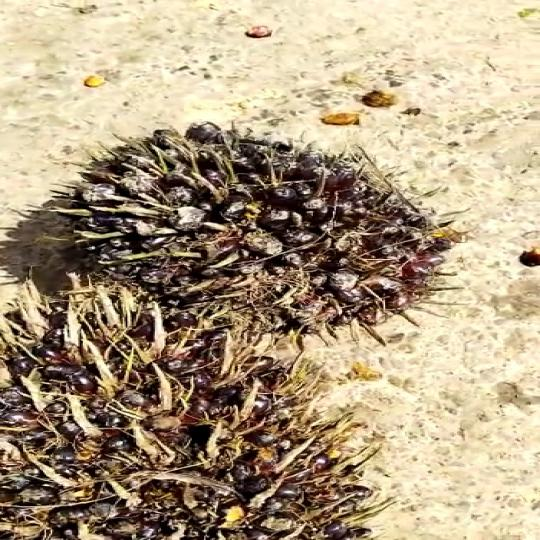mentah: (1, 275, 391, 540), (47, 119, 448, 348)
